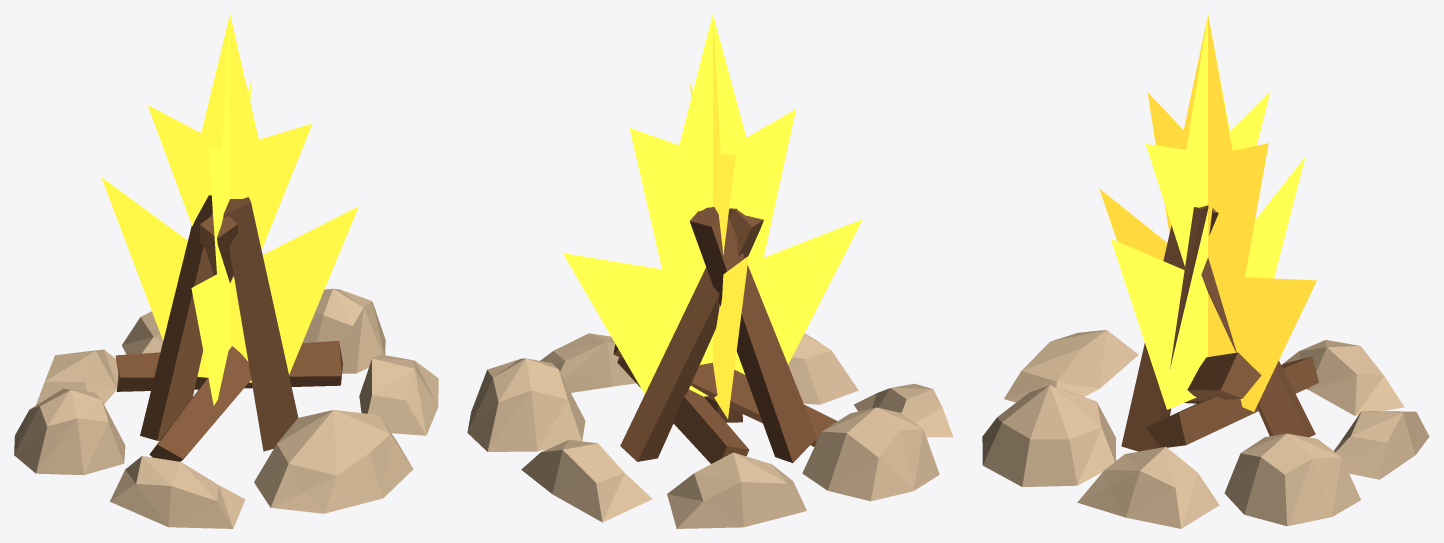
File: fireplace.glb
3 views of the same model, side by side, from view 1: azimuth 30°, elevation 25°; view 2: azimuth 150°, elevation 25°; view 3: azimuth 270°, elevation 25° (orthographic). The views are drawn at different scales.
Visible parts, largest first — view 1: fireplace; view 2: fireplace; view 3: fireplace.
Part boxes in pixels (<box>): fireplace: <box>14,14,438,528</box>; fireplace: <box>467,14,953,528</box>; fireplace: <box>982,14,1429,528</box>.
Size of the model in its own units: 1.62 by 1.62 by 1.51.
